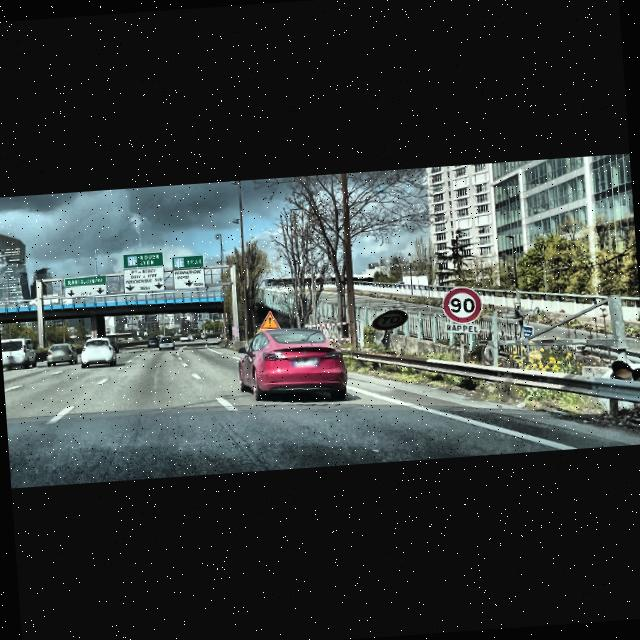speed_70: (371, 308, 406, 330)
speed_90: (440, 284, 484, 324)
